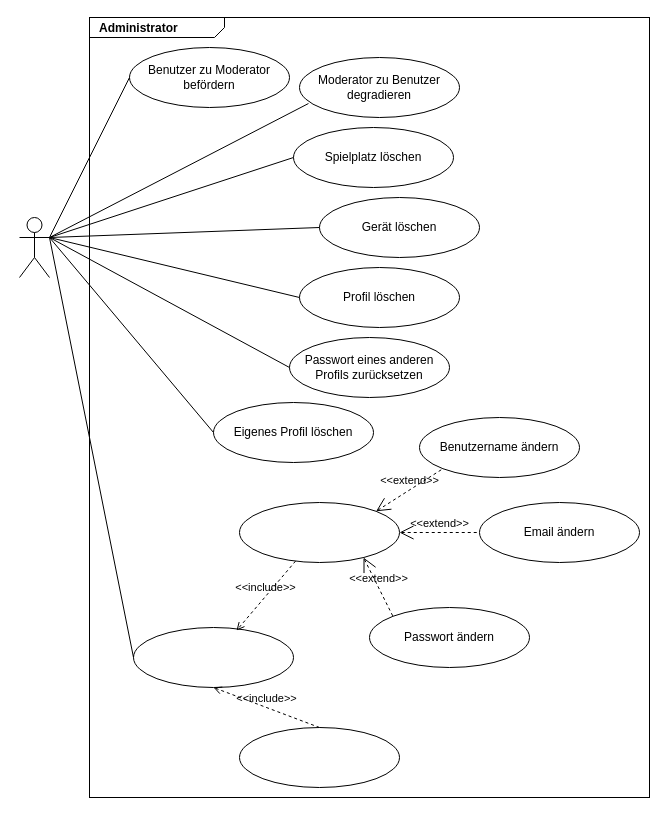
The diagram is 667 pixels wide and 815 high, and some of its shapes have lost their labels. The centre of each missing label's shape, as x and y in pixels:
"Admin" goes at [34,247].
"Ausloggen" goes at [319,757].
"Einloggen" goes at [213,657].
"Profil verwalten" goes at [319,532].
